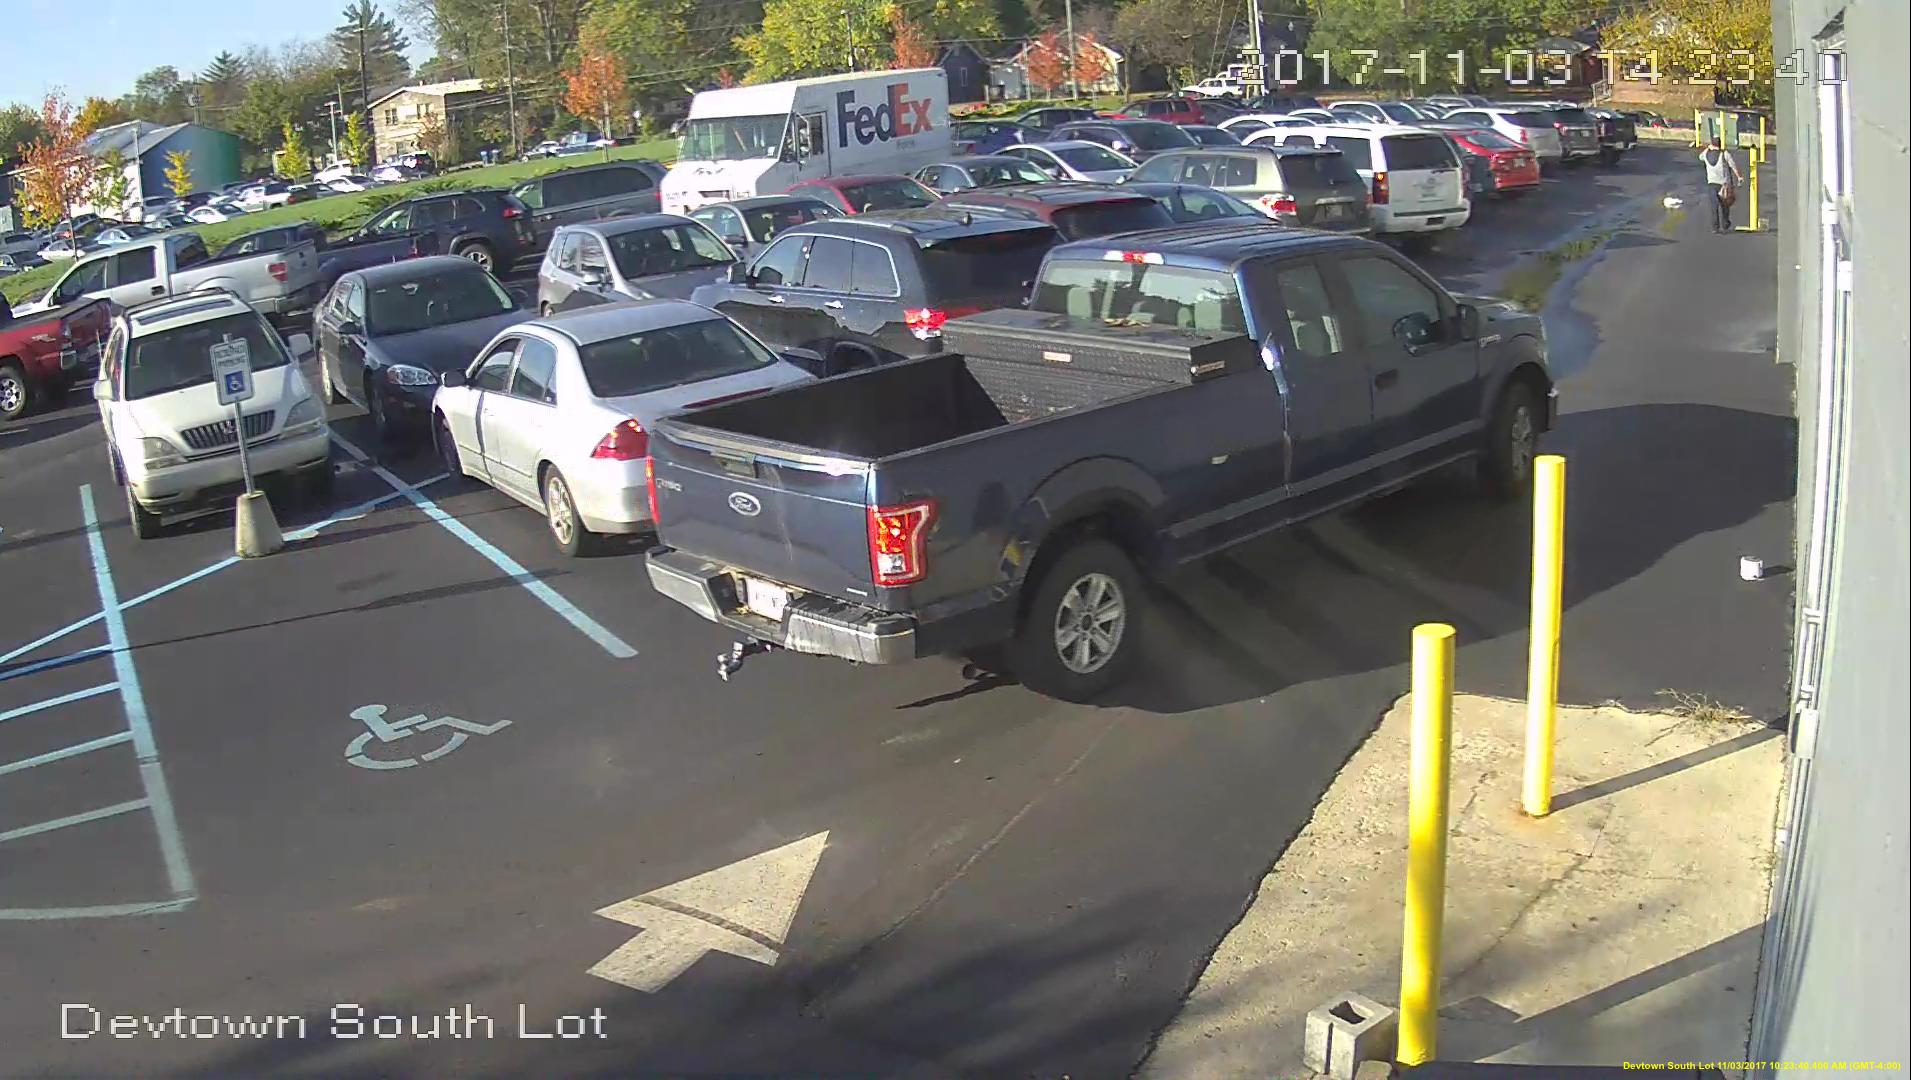fedex_truck: (652, 64, 955, 220)
